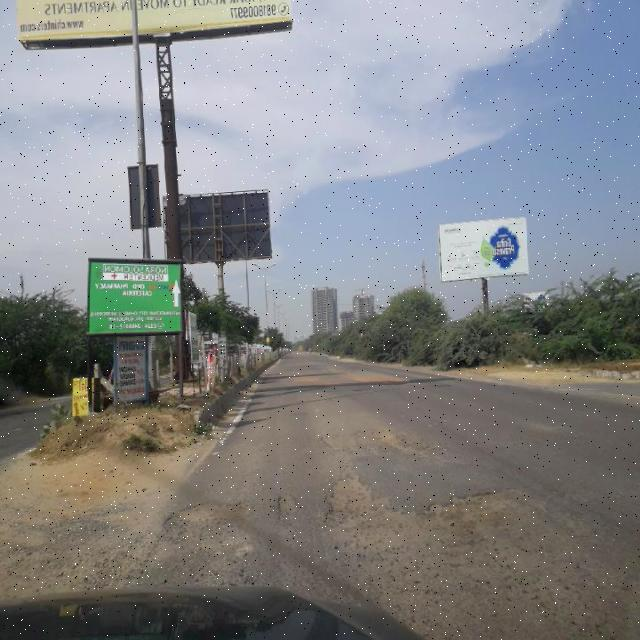D40: (316, 461, 628, 639), (160, 498, 262, 546), (316, 418, 434, 458), (271, 483, 309, 533)
